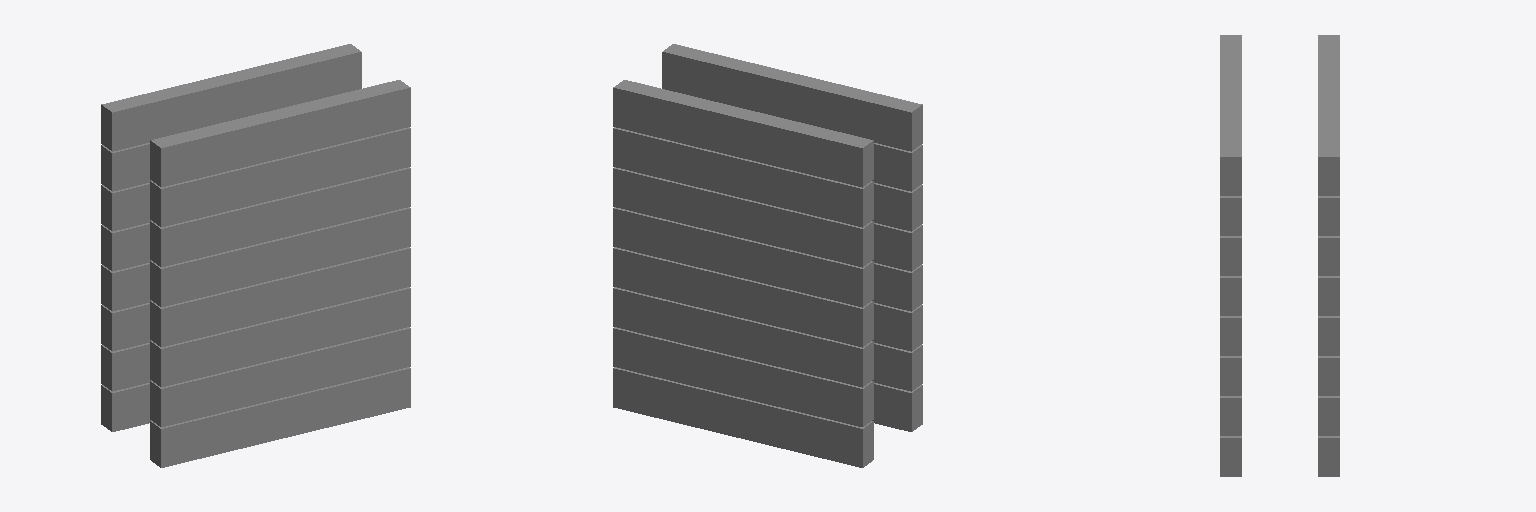
The picture shows the model from 3 angles: view 1: azimuth 30°, elevation 25°; view 2: azimuth 150°, elevation 25°; view 3: azimuth 270°, elevation 25°; orthographic projection.
Visible parts, largest first — view 1: wall.001; view 2: wall.001; view 3: wall.001.
Boxes of the visible parts, box(x1,y1,x2,y2) form: wall.001: box(101, 44, 410, 467); wall.001: box(613, 44, 922, 467); wall.001: box(1220, 35, 1339, 476).
Bounding box in the file's own units: 30.29 × 37.14 × 12.61.
1 materials, 1 textured.